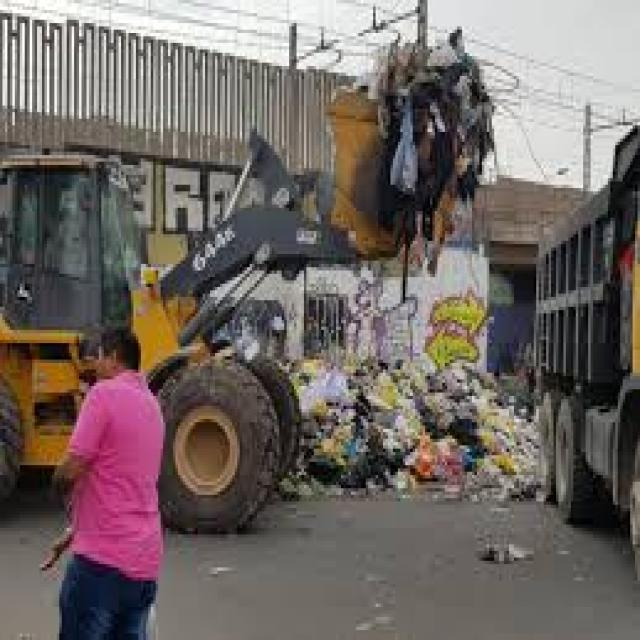garbage: (252, 323, 546, 507), (331, 33, 523, 255)
